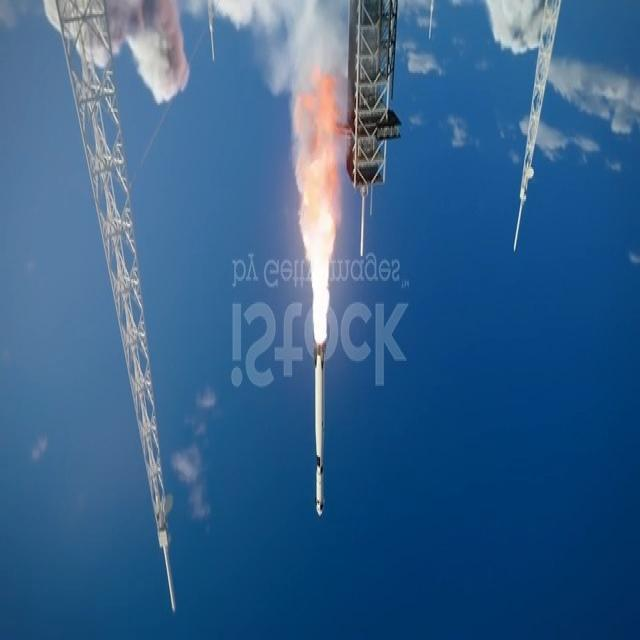Missile: (314, 332, 329, 526)
